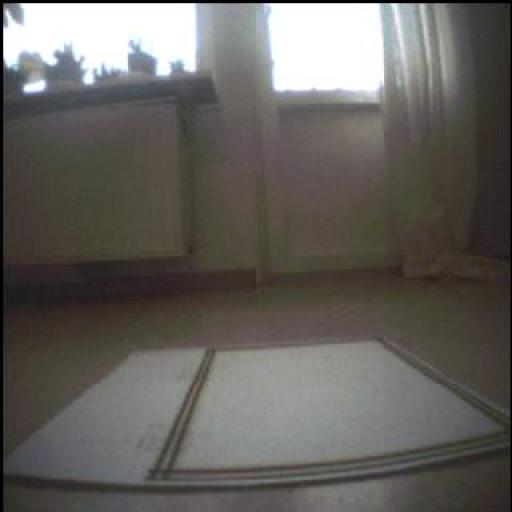Pad: (1, 338, 512, 486)
